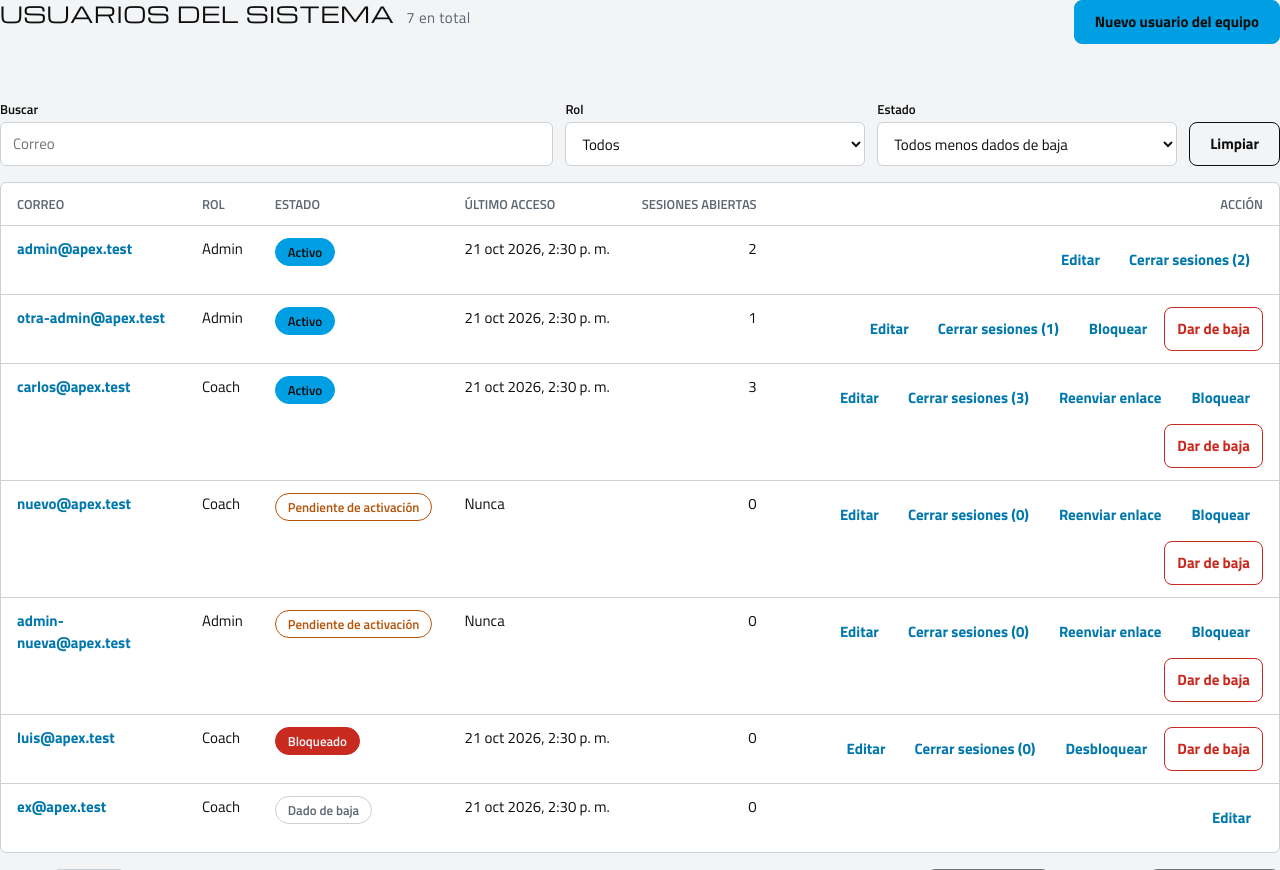
Test: LinkModal · generar (US-052) › un enlace de recuperación: solo lectura, Copiar, propósito y vencimiento en hora de Bogotá
Click the button "Reenviar enlace" in the row of "carlos@apex.test": click(1110, 398) [1046,376,1174,420]
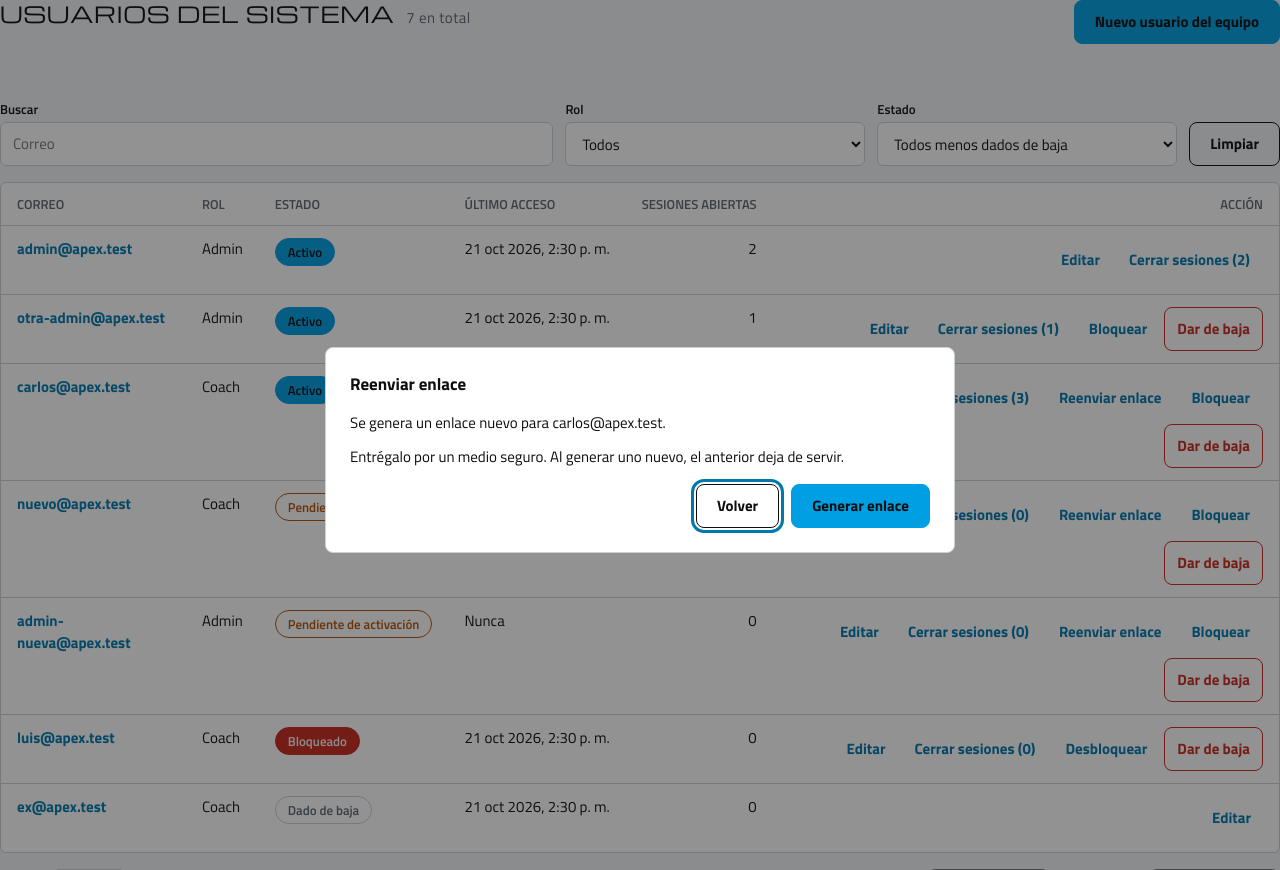
Click the button "Generar enlace": click(861, 506) [791,484,930,528]
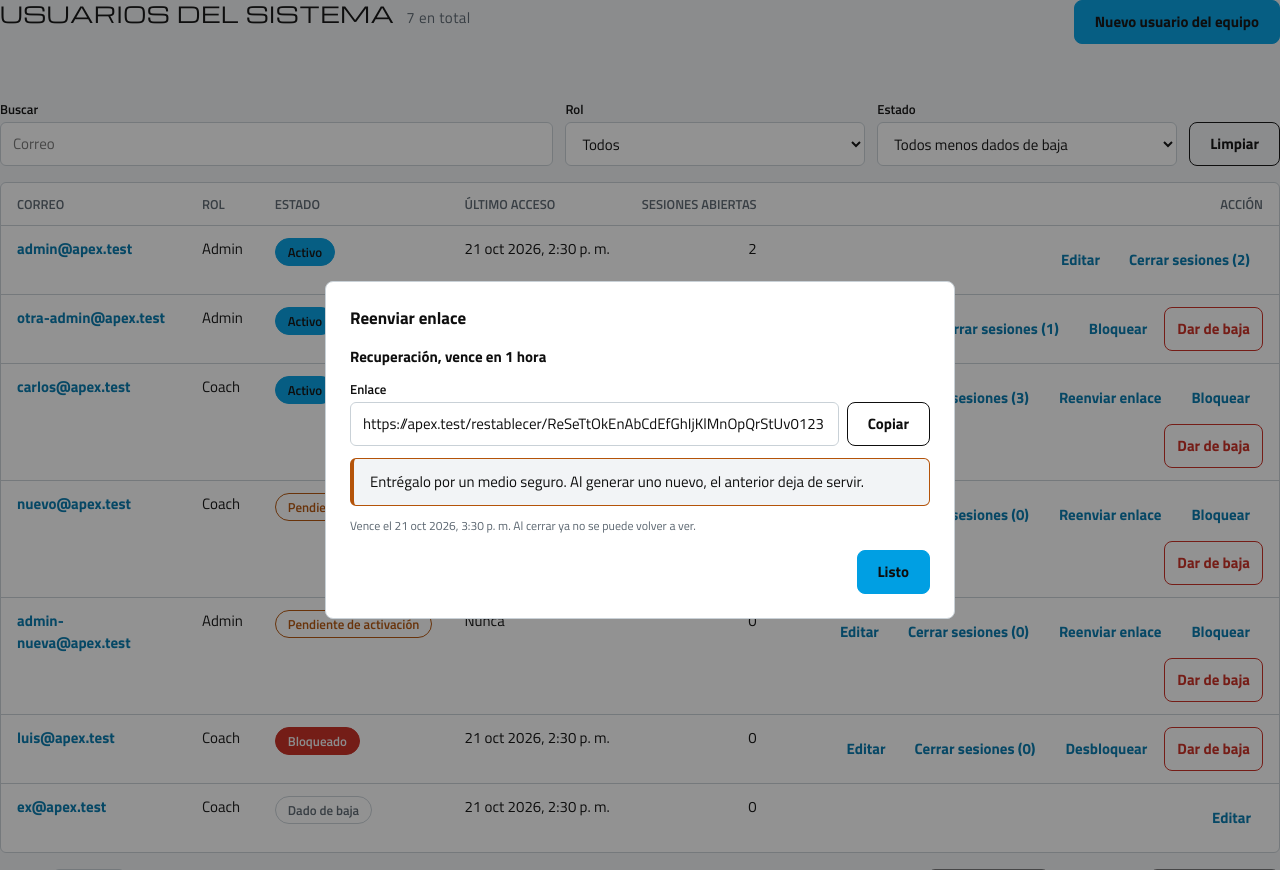
Check: the field labelled "Enlace" holds "https://apex.test/restablecer/ReSeTtOkEnAbCdEfGhIjKlMnOpQrStUv0123", box [350,402,839,446]
Check: the button "Copiar" is shown, box [847,402,930,446]
Check: the dialog "Reenviar enlace" shows "Recuperación, vence en 1 hora", box [350,345,546,368]
